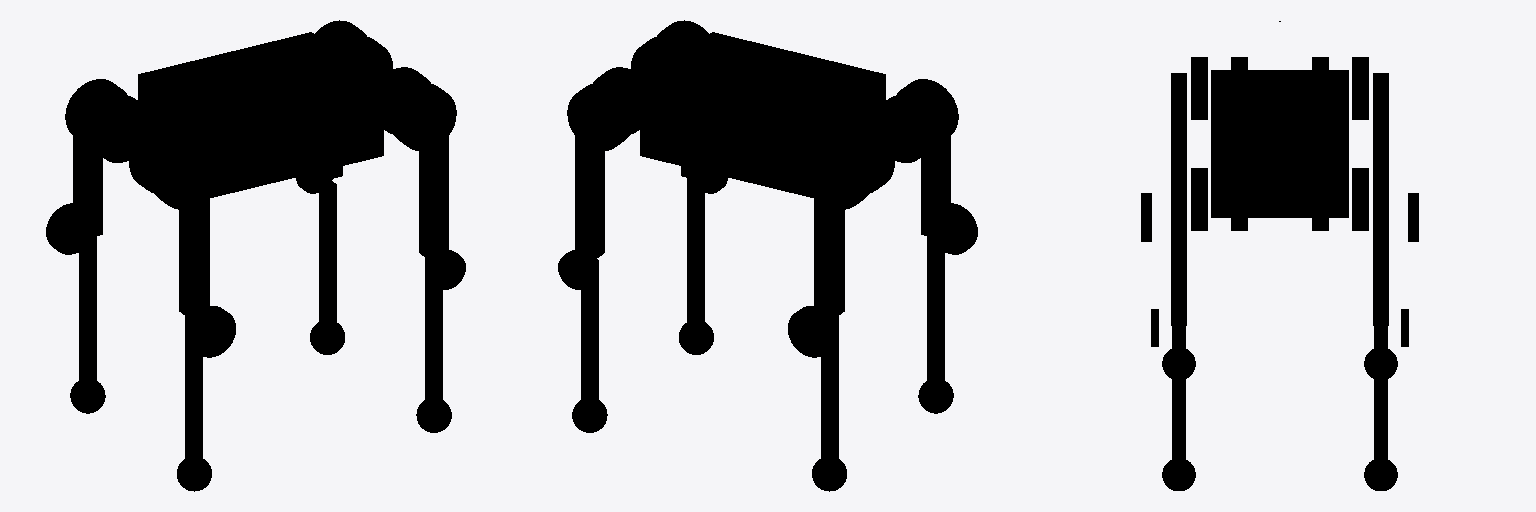
--- Render facts (derived) ---
Views: 3 orthographic renders of the robot side by side, from view 1: azimuth 30°, elevation 25°; view 2: azimuth 150°, elevation 25°; view 3: azimuth 270°, elevation 25°.
Model max with 23 links and 22 joints (12 revolute, 10 fixed), rooted at body, posed all joints at 0.
Links seen in each view (by area): view 1: body, link_HR2, link_FR2, link_HL2, link_HL1, link_HL3, link_FL3, link_FR3, link_HR3, link_HRW, link_HR1, link_FL1 (+8 smaller); view 2: body, link_HL2, link_FL2, link_HR2, link_HR1, link_FR3, link_HR3, link_FL3, link_HL3, link_HLW, link_HL1, link_FR1 (+8 smaller); view 3: body, link_FR2, link_FL2, link_HR2, link_HL2, link_FR3, link_FL3, link_FR1, link_FL1, link_FR4, link_FL4, link_HRW (+1 smaller).
Boxes of the visible links, bbox=[...] form: body: bbox=[138, 32, 383, 197]; link_HR2: bbox=[150, 141, 216, 317]; link_FR2: bbox=[390, 83, 456, 258]; link_HL2: bbox=[65, 79, 126, 239]; link_HL1: bbox=[86, 95, 152, 162]; link_HL3: bbox=[79, 236, 96, 385]; link_FL3: bbox=[319, 179, 336, 327]; link_FR3: bbox=[425, 258, 442, 405]; link_HR3: bbox=[185, 316, 202, 463]; link_HRW: bbox=[186, 306, 235, 357]; link_HR1: bbox=[129, 126, 190, 192]; link_FL1: bbox=[336, 36, 392, 79]; body: bbox=[640, 32, 885, 197]; link_HL2: bbox=[807, 141, 873, 317]; link_FL2: bbox=[567, 83, 633, 258]; link_HR2: bbox=[897, 79, 958, 239]; link_HR1: bbox=[871, 95, 937, 162]; link_FR3: bbox=[687, 178, 704, 327]; link_HR3: bbox=[927, 236, 944, 385]; link_FL3: bbox=[581, 258, 598, 405]; link_HL3: bbox=[821, 316, 838, 463]; link_HLW: bbox=[788, 306, 837, 357]; link_HL1: bbox=[833, 126, 894, 192]; link_FR1: bbox=[631, 36, 687, 79]; body: bbox=[1211, 70, 1348, 217]; link_FR2: bbox=[1171, 168, 1207, 325]; link_FL2: bbox=[1352, 168, 1388, 325]; link_HR2: bbox=[1171, 57, 1207, 183]; link_HL2: bbox=[1352, 57, 1388, 183]; link_FR3: bbox=[1172, 326, 1185, 463]; link_FL3: bbox=[1374, 326, 1387, 463]; link_FR1: bbox=[1231, 168, 1247, 230]; link_FL1: bbox=[1312, 168, 1328, 230]; link_FR4: bbox=[1162, 460, 1195, 490]; link_FL4: bbox=[1364, 460, 1397, 490]; link_HRW: bbox=[1141, 193, 1151, 241].
Bounding box of the posed robot: 0.4915 × 0.4119 × 0.5625 m (x, y, z).
Geometry: primitives only (box / cylinder / sphere), no mesh files.

The robot description file, URDF, robot "max":
<?xml version="0.0" ?>
<robot name="max">
	<link name="body">
		<inertial>
			<origin rpy="0.00000 0.00000 0.00000" xyz="-0.00458 0.00307 0.00948"/>
			<mass value="5.76855"/>
			<inertia ixx="0.04783" ixy="0.00056" ixz="0.00015" iyy="0.10578" iyz="0.00054" izz="0.12101"/>
		</inertial>
		<visual>
			<origin rpy="0.00000 0.00000 0.00000" xyz="0.00000 0.00000 0.00000"/>
			<geometry>
				<box size="0.28300 0.20500 0.11000"/>
			</geometry>
			<material name="">
				<color rgba="0.00000 0.00000 0.00000 0.50000" />
			</material>
		</visual>
		<collision>
			<origin rpy="0.00000 0.00000 0.00000" xyz="0.00000 0.00000 0.00000"/>
			<geometry>
				<box size="0.28300 0.20500 0.11000"/>
			</geometry>
		</collision>
	</link>
	<link name="link_FR1">
		<inertial>
			<origin rpy="0.00000 0.00000 0.00000" xyz="-0.00287 0.00035 -0.00047"/>
			<mass value="0.60318"/>
			<inertia ixx="0.00037" ixy="-0.00000" ixz="-0.00000" iyy="0.00065" iyz="0.00001" izz="0.00042"/>
		</inertial>
		<visual>
			<origin rpy="1.57080 0.00000 0.00000" xyz="0.00000 0.00000 0.00000"/>
			<geometry>
				<cylinder length="0.02550" radius="0.04700"/>
			</geometry>
			<material name="">
				<color rgba="0.00000 0.00000 0.00000 0.50000" />
			</material>
		</visual>
		<collision>
			<origin rpy="1.57080 0.00000 0.00000" xyz="0.00000 0.00000 0.00000"/>
			<geometry>
				<cylinder length="0.02550" radius="0.04700"/>
			</geometry>
		</collision>
	</link>
	<link name="link_FR2">
		<inertial>
			<origin rpy="0.00000 0.00000 0.00000" xyz="-0.00070 0.02582 -0.02735"/>
			<mass value="0.87783"/>
			<inertia ixx="0.00363" ixy="-0.00000" ixz="0.00002" iyy="0.00370" iyz="0.00052" izz="0.00075"/>
		</inertial>
		<visual>
			<origin rpy="0.00000 1.57080 0.00000" xyz="0.00000 0.00000 -0.10000"/>
			<geometry>
				<box size="0.20000 0.02500 0.03500"/>
			</geometry>
			<material name="">
				<color rgba="0.00000 0.00000 0.00000 0.50000" />
			</material>
		</visual>
		<visual>
			<origin rpy="1.57080 0.00000 0.00000" xyz="0.00000 0.00000 0.00000"/>
			<geometry>
				<cylinder length="0.02500" radius="0.02300"/>
			</geometry>
			<material name="">
				<color rgba="0.00000 0.00000 0.00000 0.50000" />
			</material>
		</visual>
		<visual>
			<origin rpy="1.57080 0.00000 0.00000" xyz="0.00000 0.03000 0.00000"/>
			<geometry>
				<cylinder length="0.02500" radius="0.04700"/>
			</geometry>
			<material name="">
				<color rgba="0.00000 0.00000 0.00000 0.50000" />
			</material>
		</visual>
		<collision>
			<origin rpy="0.00000 1.57080 0.00000" xyz="0.00000 0.00000 -0.10000"/>
			<geometry>
				<box size="0.20000 0.02500 0.03500"/>
			</geometry>
		</collision>
		<collision>
			<origin rpy="1.57080 0.00000 0.00000" xyz="0.00000 0.00000 0.00000"/>
			<geometry>
				<cylinder length="0.02500" radius="0.02300"/>
			</geometry>
		</collision>
		<collision>
			<origin rpy="1.57080 0.00000 0.00000" xyz="0.00000 0.03000 0.00000"/>
			<geometry>
				<cylinder length="0.02500" radius="0.04700"/>
			</geometry>
		</collision>
	</link>
	<link name="link_FR3">
		<inertial>
			<origin rpy="0.00000 0.00000 0.00000" xyz="0.00155 0.00000 -0.12442"/>
			<mass value="0.16888"/>
			<inertia ixx="0.00152" ixy="0.00000" ixz="0.00007" iyy="0.00153" iyz="-0.00000" izz="0.00003"/>
		</inertial>
		<visual>
			<origin rpy="0.00000 1.57080 0.00000" xyz="0.00000 0.00000 -0.10500"/>
			<geometry>
				<box size="0.24000 0.02000 0.01800"/>
			</geometry>
			<material name="">
				<color rgba="0.00000 0.00000 0.00000 0.50000" />
			</material>
		</visual>
		<collision>
			<origin rpy="0.00000 1.57080 0.00000" xyz="0.00000 0.00000 -0.10500"/>
			<geometry>
				<box size="0.24000 0.02000 0.01800"/>
			</geometry>
		</collision>
	</link>
	<link name="link_FR4">
		<inertial>
			<origin rpy="0.00000 0.00000 0.00000" xyz="0.00000 0.00000 0.00000"/>
			<mass value="0.00000"/>
			<inertia ixx="0.00000" ixy="0.00000" ixz="0.00000" iyy="0.00000" iyz="0.00000" izz="0.00000"/>
		</inertial>
		<visual>
			<origin rpy="0.00000 0.00000 0.00000" xyz="0.00000 0.00000 0.00000"/>
			<geometry>
				<sphere radius="0.02500"/>
			</geometry>
			<material name="">
				<color rgba="0.00000 0.00000 0.00000 0.50000" />
			</material>
		</visual>
		<collision>
			<origin rpy="0.00000 0.00000 0.00000" xyz="0.00000 0.00000 0.00000"/>
			<geometry>
				<sphere radius="0.02500"/>
			</geometry>
		</collision>
	</link>
	<link name="link_FRW">
		<inertial>
			<origin rpy="0.00000 0.00000 0.00000" xyz="0.00000 0.00000 0.00000"/>
			<mass value="0.06293"/>
			<inertia ixx="0.00002" ixy="0.00000" ixz="0.00000" iyy="0.00003" iyz="0.00000" izz="0.00002"/>
		</inertial>
		<visual>
			<origin rpy="1.57080 0.00000 0.00000" xyz="0.00000 0.00000 0.00000"/>
			<geometry>
				<cylinder length="0.01200" radius="0.02800"/>
			</geometry>
			<material name="">
				<color rgba="0.00000 0.00000 0.00000 0.50000" />
			</material>
		</visual>
		<collision>
			<origin rpy="1.57080 0.00000 0.00000" xyz="0.00000 0.00000 0.00000"/>
			<geometry>
				<cylinder length="0.01200" radius="0.02800"/>
			</geometry>
		</collision>
	</link>
	<link name="link_FL1">
		<inertial>
			<origin rpy="0.00000 0.00000 0.00000" xyz="-0.00287 -0.00035 -0.00047"/>
			<mass value="0.60318"/>
			<inertia ixx="0.00037" ixy="0.00000" ixz="-0.00000" iyy="0.00065" iyz="-0.00001" izz="0.00042"/>
		</inertial>
		<visual>
			<origin rpy="1.57080 0.00000 0.00000" xyz="0.00000 0.00000 0.00000"/>
			<geometry>
				<cylinder length="0.02550" radius="0.04700"/>
			</geometry>
			<material name="">
				<color rgba="0.00000 0.00000 0.00000 0.50000" />
			</material>
		</visual>
		<collision>
			<origin rpy="1.57080 0.00000 0.00000" xyz="0.00000 0.00000 0.00000"/>
			<geometry>
				<cylinder length="0.02550" radius="0.04700"/>
			</geometry>
		</collision>
	</link>
	<link name="link_FL2">
		<inertial>
			<origin rpy="0.00000 0.00000 0.00000" xyz="-0.00070 -0.02582 -0.02735"/>
			<mass value="0.87783"/>
			<inertia ixx="0.00363" ixy="0.00000" ixz="0.00002" iyy="0.00370" iyz="-0.00052" izz="0.00075"/>
		</inertial>
		<visual>
			<origin rpy="0.00000 1.57080 0.00000" xyz="0.00000 0.00000 -0.10000"/>
			<geometry>
				<box size="0.20000 0.02500 0.03500"/>
			</geometry>
			<material name="">
				<color rgba="0.00000 0.00000 0.00000 0.50000" />
			</material>
		</visual>
		<visual>
			<origin rpy="1.57080 0.00000 0.00000" xyz="0.00000 0.00000 0.00000"/>
			<geometry>
				<cylinder length="0.02500" radius="0.02300"/>
			</geometry>
			<material name="">
				<color rgba="0.00000 0.00000 0.00000 0.50000" />
			</material>
		</visual>
		<visual>
			<origin rpy="1.57080 0.00000 0.00000" xyz="0.00000 -0.03000 0.00000"/>
			<geometry>
				<cylinder length="0.02500" radius="0.04700"/>
			</geometry>
			<material name="">
				<color rgba="0.00000 0.00000 0.00000 0.50000" />
			</material>
		</visual>
		<collision>
			<origin rpy="0.00000 1.57080 0.00000" xyz="0.00000 0.00000 -0.10000"/>
			<geometry>
				<box size="0.20000 0.02500 0.03500"/>
			</geometry>
		</collision>
		<collision>
			<origin rpy="1.57080 0.00000 0.00000" xyz="0.00000 0.00000 0.00000"/>
			<geometry>
				<cylinder length="0.02500" radius="0.02300"/>
			</geometry>
		</collision>
		<collision>
			<origin rpy="1.57080 0.00000 0.00000" xyz="0.00000 -0.03000 0.00000"/>
			<geometry>
				<cylinder length="0.02500" radius="0.04700"/>
			</geometry>
		</collision>
	</link>
	<link name="link_FL3">
		<inertial>
			<origin rpy="0.00000 0.00000 0.00000" xyz="0.00155 0.00000 -0.12442"/>
			<mass value="0.16888"/>
			<inertia ixx="0.00152" ixy="0.00000" ixz="0.00007" iyy="0.00153" iyz="-0.00000" izz="0.00003"/>
		</inertial>
		<visual>
			<origin rpy="0.00000 1.57080 0.00000" xyz="0.00000 0.00000 -0.12000"/>
			<geometry>
				<box size="0.24000 0.02000 0.01800"/>
			</geometry>
			<material name="">
				<color rgba="0.00000 0.00000 0.00000 0.50000" />
			</material>
		</visual>
		<collision>
			<origin rpy="0.00000 1.57080 0.00000" xyz="0.00000 0.00000 -0.12000"/>
			<geometry>
				<box size="0.24000 0.02000 0.01800"/>
			</geometry>
		</collision>
	</link>
	<link name="link_FL4">
		<inertial>
			<origin rpy="0.00000 0.00000 0.00000" xyz="0.00000 0.00000 0.00000"/>
			<mass value="0.00000"/>
			<inertia ixx="0.00000" ixy="0.00000" ixz="0.00000" iyy="0.00000" iyz="0.00000" izz="0.00000"/>
		</inertial>
		<visual>
			<origin rpy="0.00000 0.00000 0.00000" xyz="0.00000 0.00000 0.00000"/>
			<geometry>
				<sphere radius="0.02500"/>
			</geometry>
			<material name="">
				<color rgba="0.00000 0.00000 0.00000 0.50000" />
			</material>
		</visual>
		<collision>
			<origin rpy="0.00000 0.00000 0.00000" xyz="0.00000 0.00000 0.00000"/>
			<geometry>
				<sphere radius="0.02500"/>
			</geometry>
		</collision>
	</link>
	<link name="link_FLW">
		<inertial>
			<origin rpy="0.00000 0.00000 0.00000" xyz="0.00000 0.00000 0.00000"/>
			<mass value="0.06293"/>
			<inertia ixx="0.00002" ixy="0.00000" ixz="0.00000" iyy="0.00003" iyz="0.00000" izz="0.00002"/>
		</inertial>
		<visual>
			<origin rpy="1.57080 0.00000 0.00000" xyz="0.00000 0.00000 0.00000"/>
			<geometry>
				<cylinder length="0.01200" radius="0.02800"/>
			</geometry>
			<material name="">
				<color rgba="0.00000 0.00000 0.00000 0.50000" />
			</material>
		</visual>
		<collision>
			<origin rpy="1.57080 0.00000 0.00000" xyz="0.00000 0.00000 0.00000"/>
			<geometry>
				<cylinder length="0.01200" radius="0.02800"/>
			</geometry>
		</collision>
	</link>
	<link name="link_HR1">
		<inertial>
			<origin rpy="0.00000 0.00000 0.00000" xyz="0.00287 0.00035 -0.00047"/>
			<mass value="0.60318"/>
			<inertia ixx="0.00037" ixy="0.00000" ixz="0.00000" iyy="0.00065" iyz="0.00001" izz="0.00042"/>
		</inertial>
		<visual>
			<origin rpy="1.57080 0.00000 0.00000" xyz="0.00000 0.00000 0.00000"/>
			<geometry>
				<cylinder length="0.02550" radius="0.04700"/>
			</geometry>
			<material name="">
				<color rgba="0.00000 0.00000 0.00000 0.50000" />
			</material>
		</visual>
		<collision>
			<origin rpy="1.57080 0.00000 0.00000" xyz="0.00000 0.00000 0.00000"/>
			<geometry>
				<cylinder length="0.02550" radius="0.04700"/>
			</geometry>
		</collision>
	</link>
	<link name="link_HR2">
		<inertial>
			<origin rpy="0.00000 0.00000 0.00000" xyz="-0.00077 0.02622 -0.02560"/>
			<mass value="0.89043"/>
			<inertia ixx="0.00367" ixy="0.00005" ixz="-0.00008" iyy="0.00417" iyz="0.00047" izz="0.00120"/>
		</inertial>
		<visual>
			<origin rpy="0.00000 1.57080 0.00000" xyz="0.00000 0.00000 -0.10000"/>
			<geometry>
				<box size="0.20000 0.02500 0.03500"/>
			</geometry>
			<material name="">
				<color rgba="0.00000 0.00000 0.00000 0.50000" />
			</material>
		</visual>
		<visual>
			<origin rpy="1.57080 0.00000 0.00000" xyz="0.00000 0.00000 0.00000"/>
			<geometry>
				<cylinder length="0.02500" radius="0.02300"/>
			</geometry>
			<material name="">
				<color rgba="0.00000 0.00000 0.00000 0.50000" />
			</material>
		</visual>
		<visual>
			<origin rpy="1.57080 0.00000 0.00000" xyz="0.00000 0.03000 0.00000"/>
			<geometry>
				<cylinder length="0.02500" radius="0.04700"/>
			</geometry>
			<material name="">
				<color rgba="0.00000 0.00000 0.00000 0.50000" />
			</material>
		</visual>
		<collision>
			<origin rpy="0.00000 1.57080 0.00000" xyz="0.00000 0.00000 -0.10000"/>
			<geometry>
				<box size="0.20000 0.02500 0.03500"/>
			</geometry>
		</collision>
		<collision>
			<origin rpy="1.57080 0.00000 0.00000" xyz="0.00000 0.00000 0.00000"/>
			<geometry>
				<cylinder length="0.02500" radius="0.02300"/>
			</geometry>
		</collision>
		<collision>
			<origin rpy="1.57080 0.00000 0.00000" xyz="0.00000 0.03000 0.00000"/>
			<geometry>
				<cylinder length="0.02500" radius="0.04700"/>
			</geometry>
		</collision>
	</link>
	<link name="link_HR3">
		<inertial>
			<origin rpy="0.00000 0.00000 0.00000" xyz="0.00171 -0.00016 -0.08671"/>
			<mass value="0.28839"/>
			<inertia ixx="0.00208" ixy="-0.00000" ixz="0.00008" iyy="0.00210" iyz="-0.00000" izz="0.00007"/>
		</inertial>
		<visual>
			<origin rpy="0.00000 1.57080 0.00000" xyz="0.00000 0.00000 -0.10500"/>
			<geometry>
				<box size="0.24000 0.02000 0.01800"/>
			</geometry>
			<material name="">
				<color rgba="0.00000 0.00000 0.00000 0.50000" />
			</material>
		</visual>
		<collision>
			<origin rpy="0.00000 1.57080 0.00000" xyz="0.00000 0.00000 -0.10500"/>
			<geometry>
				<box size="0.24000 0.02000 0.01800"/>
			</geometry>
		</collision>
	</link>
	<link name="link_HR4">
		<inertial>
			<origin rpy="0.00000 0.00000 0.00000" xyz="0.00000 0.00000 0.00000"/>
			<mass value="0.00000"/>
			<inertia ixx="0.00000" ixy="0.00000" ixz="0.00000" iyy="0.00000" iyz="0.00000" izz="0.00000"/>
		</inertial>
		<visual>
			<origin rpy="0.00000 0.00000 0.00000" xyz="0.00000 0.00000 0.00000"/>
			<geometry>
				<sphere radius="0.02500"/>
			</geometry>
			<material name="">
				<color rgba="0.00000 0.00000 0.00000 0.50000" />
			</material>
		</visual>
		<collision>
			<origin rpy="0.00000 0.00000 0.00000" xyz="0.00000 0.00000 0.00000"/>
			<geometry>
				<sphere radius="0.02500"/>
			</geometry>
		</collision>
	</link>
	<link name="link_HRW">
		<inertial>
			<origin rpy="0.00000 0.00000 0.00000" xyz="0.00000 0.00000 0.00000"/>
			<mass value="0.12000"/>
			<inertia ixx="0.00003" ixy="0.00000" ixz="0.00000" iyy="0.00004" iyz="0.00000" izz="0.00003"/>
		</inertial>
		<visual>
			<origin rpy="1.57080 0.00000 0.00000" xyz="0.00000 0.00000 0.00000"/>
			<geometry>
				<cylinder length="0.01600" radius="0.03600"/>
			</geometry>
			<material name="">
				<color rgba="0.00000 0.00000 0.00000 0.50000" />
			</material>
		</visual>
		<collision>
			<origin rpy="1.57080 0.00000 0.00000" xyz="0.00000 0.00000 0.00000"/>
			<geometry>
				<cylinder length="0.01600" radius="0.03600"/>
			</geometry>
		</collision>
	</link>
	<link name="link_HL1">
		<inertial>
			<origin rpy="0.00000 0.00000 0.00000" xyz="0.00287 -0.00035 -0.00047"/>
			<mass value="0.60318"/>
			<inertia ixx="0.00037" ixy="-0.00000" ixz="0.00000" iyy="0.00065" iyz="-0.00001" izz="0.00042"/>
		</inertial>
		<visual>
			<origin rpy="1.57080 0.00000 0.00000" xyz="0.00000 0.00000 0.00000"/>
			<geometry>
				<cylinder length="0.02550" radius="0.04700"/>
			</geometry>
			<material name="">
				<color rgba="0.00000 0.00000 0.00000 0.50000" />
			</material>
		</visual>
		<collision>
			<origin rpy="1.57080 0.00000 0.00000" xyz="0.00000 0.00000 0.00000"/>
			<geometry>
				<cylinder length="0.02550" radius="0.04700"/>
			</geometry>
		</collision>
	</link>
	<link name="link_HL2">
		<inertial>
			<origin rpy="0.00000 0.00000 0.00000" xyz="-0.00077 -0.02622 -0.02560"/>
			<mass value="0.89043"/>
			<inertia ixx="0.00367" ixy="0.00005" ixz="0.00008" iyy="0.00417" iyz="-0.00047" izz="0.00120"/>
		</inertial>
		<visual>
			<origin rpy="0.00000 1.57080 0.00000" xyz="0.00000 0.00000 -0.10000"/>
			<geometry>
				<box size="0.20000 0.02500 0.03500"/>
			</geometry>
			<material name="">
				<color rgba="0.00000 0.00000 0.00000 0.50000" />
			</material>
		</visual>
		<visual>
			<origin rpy="1.57080 0.00000 0.00000" xyz="0.00000 0.00000 0.00000"/>
			<geometry>
				<cylinder length="0.02500" radius="0.02300"/>
			</geometry>
			<material name="">
				<color rgba="0.00000 0.00000 0.00000 0.50000" />
			</material>
		</visual>
		<visual>
			<origin rpy="1.57080 0.00000 0.00000" xyz="0.00000 -0.03000 0.00000"/>
			<geometry>
				<cylinder length="0.02500" radius="0.04700"/>
			</geometry>
			<material name="">
				<color rgba="0.00000 0.00000 0.00000 0.50000" />
			</material>
		</visual>
		<collision>
			<origin rpy="0.00000 1.57080 0.00000" xyz="0.00000 0.00000 -0.10000"/>
			<geometry>
				<box size="0.20000 0.02500 0.03500"/>
			</geometry>
		</collision>
		<collision>
			<origin rpy="1.57080 0.00000 0.00000" xyz="0.00000 0.00000 0.00000"/>
			<geometry>
				<cylinder length="0.02500" radius="0.02300"/>
			</geometry>
		</collision>
		<collision>
			<origin rpy="1.57080 0.00000 0.00000" xyz="0.00000 -0.03000 0.00000"/>
			<geometry>
				<cylinder length="0.02500" radius="0.04700"/>
			</geometry>
		</collision>
	</link>
	<link name="link_HL3">
		<inertial>
			<origin rpy="0.00000 0.00000 0.00000" xyz="0.00171 0.00016 -0.08671"/>
			<mass value="0.28839"/>
			<inertia ixx="0.00208" ixy="0.00000" ixz="0.00008" iyy="0.00210" iyz="0.00000" izz="0.00007"/>
		</inertial>
		<visual>
			<origin rpy="0.00000 1.57080 0.00000" xyz="0.00000 0.00000 -0.10500"/>
			<geometry>
				<box size="0.24000 0.02000 0.01800"/>
			</geometry>
			<material name="">
				<color rgba="0.00000 0.00000 0.00000 0.50000" />
			</material>
		</visual>
		<collision>
			<origin rpy="0.00000 1.57080 0.00000" xyz="0.00000 0.00000 -0.10500"/>
			<geometry>
				<box size="0.24000 0.02000 0.01800"/>
			</geometry>
		</collision>
	</link>
	<link name="link_HL4">
		<inertial>
			<origin rpy="0.00000 0.00000 0.00000" xyz="0.00000 0.00000 0.00000"/>
			<mass value="0.00000"/>
			<inertia ixx="0.00000" ixy="0.00000" ixz="0.00000" iyy="0.00000" iyz="0.00000" izz="0.00000"/>
		</inertial>
		<visual>
			<origin rpy="0.00000 0.00000 0.00000" xyz="0.00000 0.00000 0.00000"/>
			<geometry>
				<sphere radius="0.02500"/>
			</geometry>
			<material name="">
				<color rgba="0.00000 0.00000 0.00000 0.50000" />
			</material>
		</visual>
		<collision>
			<origin rpy="0.00000 0.00000 0.00000" xyz="0.00000 0.00000 0.00000"/>
			<geometry>
				<sphere radius="0.02500"/>
			</geometry>
		</collision>
	</link>
	<link name="link_HLW">
		<inertial>
			<origin rpy="0.00000 0.00000 0.00000" xyz="0.00000 0.00000 0.00000"/>
			<mass value="0.12000"/>
			<inertia ixx="0.00003" ixy="0.00000" ixz="0.00000" iyy="0.00004" iyz="0.00000" izz="0.00003"/>
		</inertial>
		<visual>
			<origin rpy="1.57080 0.00000 0.00000" xyz="0.00000 0.00000 0.00000"/>
			<geometry>
				<cylinder length="0.01600" radius="0.03600"/>
			</geometry>
			<material name="">
				<color rgba="0.00000 0.00000 0.00000 0.50000" />
			</material>
		</visual>
		<collision>
			<origin rpy="1.57080 0.00000 0.00000" xyz="0.00000 0.00000 0.00000"/>
			<geometry>
				<cylinder length="0.01600" radius="0.03600"/>
			</geometry>
		</collision>
	</link>
	<link name="link_front_handle">
		<inertial>
			<origin rpy="0.00000 0.00000 0.00000" xyz="0.00000 0.00000 0.00000"/>
			<mass value="0.00100"/>
			<inertia ixx="0.00000" ixy="0.00000" ixz="0.00000" iyy="0.00000" iyz="0.00000" izz="0.00000"/>
		</inertial>
		<visual>
			<origin rpy="0.00000 0.00000 0.00000" xyz="0.00000 0.00000 0.00000"/>
			<geometry>
				<sphere radius="0.00100"/>
			</geometry>
			<material name="">
				<color rgba="0.00000 0.00000 0.00000 0.50000" />
			</material>
		</visual>
		<collision>
			<origin rpy="0.00000 0.00000 0.00000" xyz="0.00000 0.00000 0.00000"/>
			<geometry>
				<sphere radius="0.00100"/>
			</geometry>
		</collision>
	</link>
	<link name="link_hind_handle">
		<inertial>
			<origin rpy="0.00000 0.00000 0.00000" xyz="0.00000 0.00000 0.00000"/>
			<mass value="0.00100"/>
			<inertia ixx="0.00000" ixy="0.00000" ixz="0.00000" iyy="0.00000" iyz="0.00000" izz="0.00000"/>
		</inertial>
		<visual>
			<origin rpy="0.00000 0.00000 0.00000" xyz="0.00000 0.00000 0.00000"/>
			<geometry>
				<sphere radius="0.00100"/>
			</geometry>
			<material name="">
				<color rgba="0.00000 0.00000 0.00000 0.50000" />
			</material>
		</visual>
		<collision>
			<origin rpy="0.00000 0.00000 0.00000" xyz="0.00000 0.00000 0.00000"/>
			<geometry>
				<sphere radius="0.00100"/>
			</geometry>
		</collision>
	</link>
	<joint name="joint_FR1" type="revolute">
		<parent link="body"/>
		<child link="link_FR1"/>
		<limit effort="18.00000" lower="-0.87200" upper="0.69700" velocity="20.00000"/>
		<dynamics damping="0.10000" friction="0.50000"/>
		<origin rpy="0.00000 0.00000 0.00000" xyz="0.19500 -0.06000 0.00000"/>
		<axis xyz="1.00000 0.00000 0.00000"/>
	</joint>
	<joint name="joint_FR2" type="revolute">
		<parent link="link_FR1"/>
		<child link="link_FR2"/>
		<limit effort="18.00000" lower="-4.36330" upper="1.22170" velocity="20.00000"/>
		<dynamics damping="0.10000" friction="0.50000"/>
		<origin rpy="0.00000 0.00000 0.00000" xyz="0.00000 -0.09000 0.00000"/>
		<axis xyz="0.00000 -1.00000 0.00000"/>
	</joint>
	<joint name="joint_FR3" type="revolute">
		<parent link="link_FR2"/>
		<child link="link_FR3"/>
		<limit effort="18.00000" lower="-2.44960" upper="2.54400" velocity="33.00000"/>
		<dynamics damping="0.10000" friction="0.50000"/>
		<origin rpy="0.00000 0.00000 0.00000" xyz="0.00000 0.00000 -0.21150"/>
		<axis xyz="0.00000 -1.00000 0.00000"/>
	</joint>
	<joint name="joint_FR4" type="fixed">
		<parent link="link_FR3"/>
		<child link="link_FR4"/>
		<dynamics damping="0.00000" friction="0.00000"/>
		<origin rpy="0.00000 0.00000 0.00000" xyz="0.00000 0.00000 -0.24000"/>
		<axis xyz="1.00000 2.00000 3.00000"/>
	</joint>
	<joint name="joint_FRW" type="fixed">
		<parent link="link_FR2"/>
		<child link="link_FRW"/>
		<dynamics damping="0.80000" friction="0.50000"/>
		<origin rpy="0.00000 0.00000 0.00000" xyz="0.00000 -0.03550 -0.21150"/>
		<axis xyz="0.00000 -1.00000 0.00000"/>
	</joint>
	<joint name="joint_FL1" type="revolute">
		<parent link="body"/>
		<child link="link_FL1"/>
		<limit effort="18.00000" lower="-0.69700" upper="0.87200" velocity="20.00000"/>
		<dynamics damping="0.10000" friction="0.50000"/>
		<origin rpy="0.00000 0.00000 0.00000" xyz="0.19500 0.06000 0.00000"/>
		<axis xyz="1.00000 0.00000 0.00000"/>
	</joint>
	<joint name="joint_FL2" type="revolute">
		<parent link="link_FL1"/>
		<child link="link_FL2"/>
		<limit effort="18.00000" lower="-4.36330" upper="1.22170" velocity="20.00000"/>
		<dynamics damping="0.10000" friction="0.50000"/>
		<origin rpy="0.00000 0.00000 0.00000" xyz="0.00000 0.09000 0.00000"/>
		<axis xyz="0.00000 -1.00000 0.00000"/>
	</joint>
	<joint name="joint_FL3" type="revolute">
		<parent link="link_FL2"/>
		<child link="link_FL3"/>
		<limit effort="18.00000" lower="-2.44960" upper="2.54400" velocity="33.00000"/>
		<dynamics damping="0.10000" friction="0.50000"/>
		<origin rpy="0.00000 0.00000 0.00000" xyz="0.00000 0.00000 -0.21150"/>
		<axis xyz="0.00000 -1.00000 0.00000"/>
	</joint>
	<joint name="joint_FL4" type="fixed">
		<parent link="link_FL3"/>
		<child link="link_FL4"/>
		<dynamics damping="0.00000" friction="0.00000"/>
		<origin rpy="0.00000 0.00000 0.00000" xyz="0.00000 0.00000 -0.24000"/>
		<axis xyz="1.00000 2.00000 3.00000"/>
	</joint>
	<joint name="joint_FLW" type="fixed">
		<parent link="link_FL2"/>
		<child link="link_FLW"/>
		<dynamics damping="0.80000" friction="0.50000"/>
		<origin rpy="0.00000 0.00000 0.00000" xyz="0.00000 0.03550 -0.21150"/>
		<axis xyz="0.00000 -1.00000 0.00000"/>
	</joint>
	<joint name="joint_HR1" type="revolute">
		<parent link="body"/>
		<child link="link_HR1"/>
		<limit effort="18.00000" lower="-0.87200" upper="0.69700" velocity="20.00000"/>
		<dynamics damping="0.10000" friction="0.50000"/>
		<origin rpy="0.00000 0.00000 0.00000" xyz="-0.19500 -0.06000 0.00000"/>
		<axis xyz="1.00000 0.00000 0.00000"/>
	</joint>
	<joint name="joint_HR2" type="revolute">
		<parent link="link_HR1"/>
		<child link="link_HR2"/>
		<limit effort="18.00000" lower="-4.36330" upper="1.22170" velocity="20.00000"/>
		<dynamics damping="0.10000" friction="0.50000"/>
		<origin rpy="0.00000 0.00000 0.00000" xyz="0.00000 -0.09000 0.00000"/>
		<axis xyz="0.00000 -1.00000 0.00000"/>
	</joint>
	<joint name="joint_HR3" type="revolute">
		<parent link="link_HR2"/>
		<child link="link_HR3"/>
		<limit effort="18.00000" lower="-2.39950" upper="2.58550" velocity="33.00000"/>
		<dynamics damping="0.10000" friction="0.50000"/>
		<origin rpy="0.00000 0.00000 0.00000" xyz="0.00000 0.00000 -0.21150"/>
		<axis xyz="0.00000 -1.00000 0.00000"/>
	</joint>
	<joint name="joint_HR4" type="fixed">
		<parent link="link_HR3"/>
		<child link="link_HR4"/>
		<dynamics damping="0.00000" friction="0.00000"/>
		<origin rpy="0.00000 0.00000 0.00000" xyz="0.00000 0.00000 -0.24000"/>
		<axis xyz="1.00000 2.00000 3.00000"/>
	</joint>
	<joint name="joint_HRW" type="fixed">
		<parent link="link_HR2"/>
		<child link="link_HRW"/>
		<dynamics damping="0.80000" friction="0.50000"/>
		<origin rpy="0.00000 1.57080 0.00000" xyz="0.00000 -0.04795 -0.21150"/>
		<axis xyz="0.00000 -1.00000 0.00000"/>
	</joint>
	<joint name="joint_HL1" type="revolute">
		<parent link="body"/>
		<child link="link_HL1"/>
		<limit effort="18.00000" lower="-0.69700" upper="0.87200" velocity="20.00000"/>
		<dynamics damping="0.10000" friction="0.50000"/>
		<origin rpy="0.00000 0.00000 0.00000" xyz="-0.19500 0.06000 0.00000"/>
		<axis xyz="1.00000 0.00000 0.00000"/>
	</joint>
	<joint name="joint_HL2" type="revolute">
		<parent link="link_HL1"/>
		<child link="link_HL2"/>
		<limit effort="18.00000" lower="-4.36330" upper="1.22170" velocity="20.00000"/>
		<dynamics damping="0.10000" friction="0.50000"/>
		<origin rpy="0.00000 0.00000 0.00000" xyz="0.00000 0.09000 0.00000"/>
		<axis xyz="0.00000 -1.00000 0.00000"/>
	</joint>
	<joint name="joint_HL3" type="revolute">
		<parent link="link_HL2"/>
		<child link="link_HL3"/>
		<limit effort="18.00000" lower="-2.39950" upper="2.58550" velocity="33.00000"/>
		<dynamics damping="0.10000" friction="0.50000"/>
		<origin rpy="0.00000 0.00000 0.00000" xyz="0.00000 0.00000 -0.21150"/>
		<axis xyz="0.00000 -1.00000 0.00000"/>
	</joint>
	<joint name="joint_HL4" type="fixed">
		<parent link="link_HL3"/>
		<child link="link_HL4"/>
		<dynamics damping="0.00000" friction="0.00000"/>
		<origin rpy="0.00000 0.00000 0.00000" xyz="0.00000 0.00000 -0.24000"/>
		<axis xyz="1.00000 2.00000 3.00000"/>
	</joint>
	<joint name="joint_HLW" type="fixed">
		<parent link="link_HL2"/>
		<child link="link_HLW"/>
		<dynamics damping="0.80000" friction="0.50000"/>
		<origin rpy="0.00000 1.57080 0.00000" xyz="0.00000 0.04795 -0.21150"/>
		<axis xyz="0.00000 -1.00000 0.00000"/>
	</joint>
	<joint name="joint_front_handle" type="fixed">
		<parent link="body"/>
		<child link="link_front_handle"/>
		<dynamics damping="0.00000" friction="0.00000"/>
		<origin rpy="0.00000 0.00000 0.00000" xyz="0.14150 0.00000 0.08500"/>
		<axis xyz="1.00000 2.00000 3.00000"/>
	</joint>
	<joint name="joint_hind_handle" type="fixed">
		<parent link="body"/>
		<child link="link_hind_handle"/>
		<dynamics damping="0.00000" friction="0.00000"/>
		<origin rpy="0.00000 0.00000 0.00000" xyz="-0.24850 0.00000 0.08500"/>
		<axis xyz="1.00000 2.00000 3.00000"/>
	</joint>
</robot>
